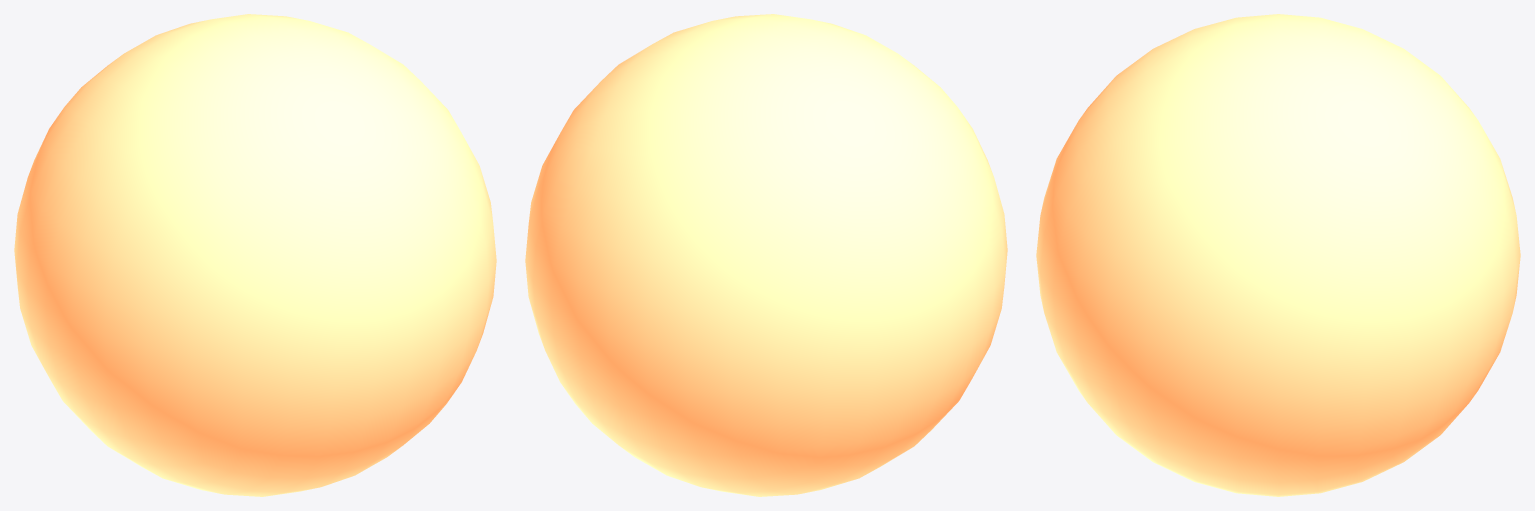
Rendered from planet_006.fbx.
3 views of the same model, side by side, from view 1: azimuth 30°, elevation 25°; view 2: azimuth 150°, elevation 25°; view 3: azimuth 270°, elevation 25° (orthographic).
Visible parts, largest first — view 1: planet_006; view 2: planet_006; view 3: planet_006.
Part boxes in pixels (left/top/right/bottom): planet_006: left=14, top=14, right=496, bottom=496; planet_006: left=525, top=14, right=1007, bottom=496; planet_006: left=1036, top=14, right=1520, bottom=496.
Size of the model in its own units: 2250 by 2250 by 2250.
